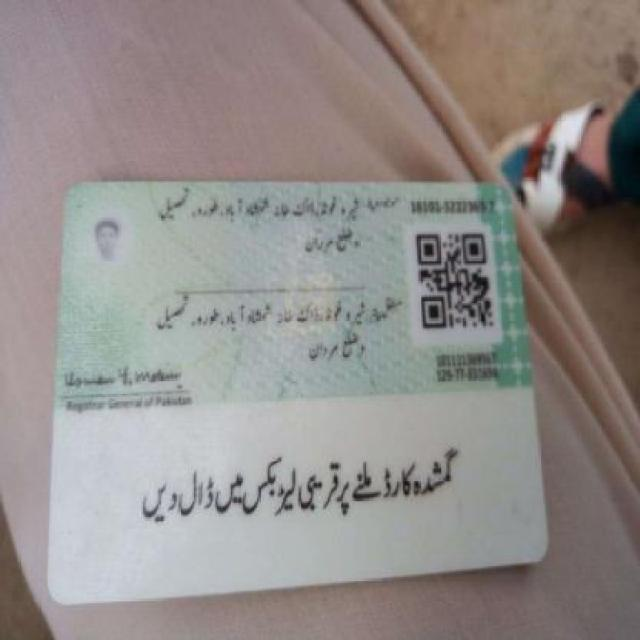Back: (43, 177, 554, 581)
